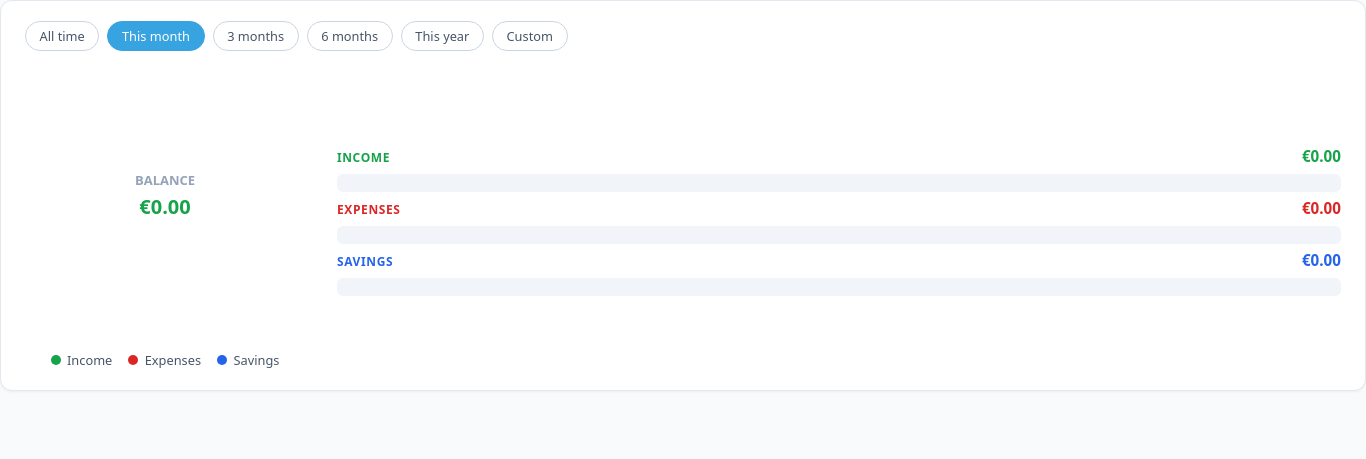
it: Analytics › totals each type's bar
Step 1. Click the button "All time" → (62,36), box [25, 21, 99, 51]
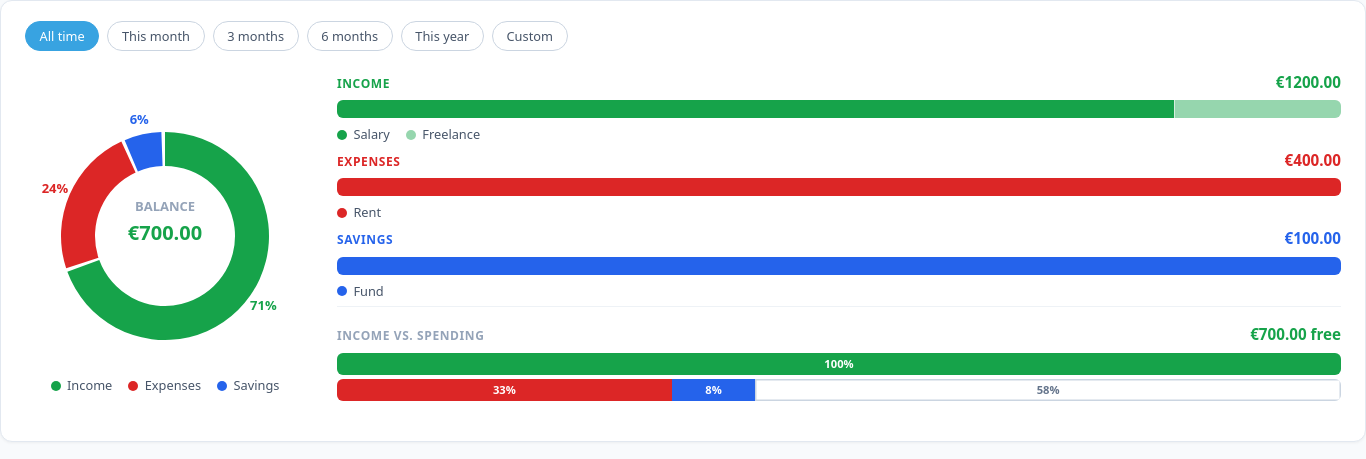
Check: the text "€1200.00" is shown, box [1276, 72, 1341, 92]
Check: the text "€400.00" is shown, box [1284, 150, 1341, 170]
Check: the text "€100.00" is shown, box [1284, 228, 1341, 248]
